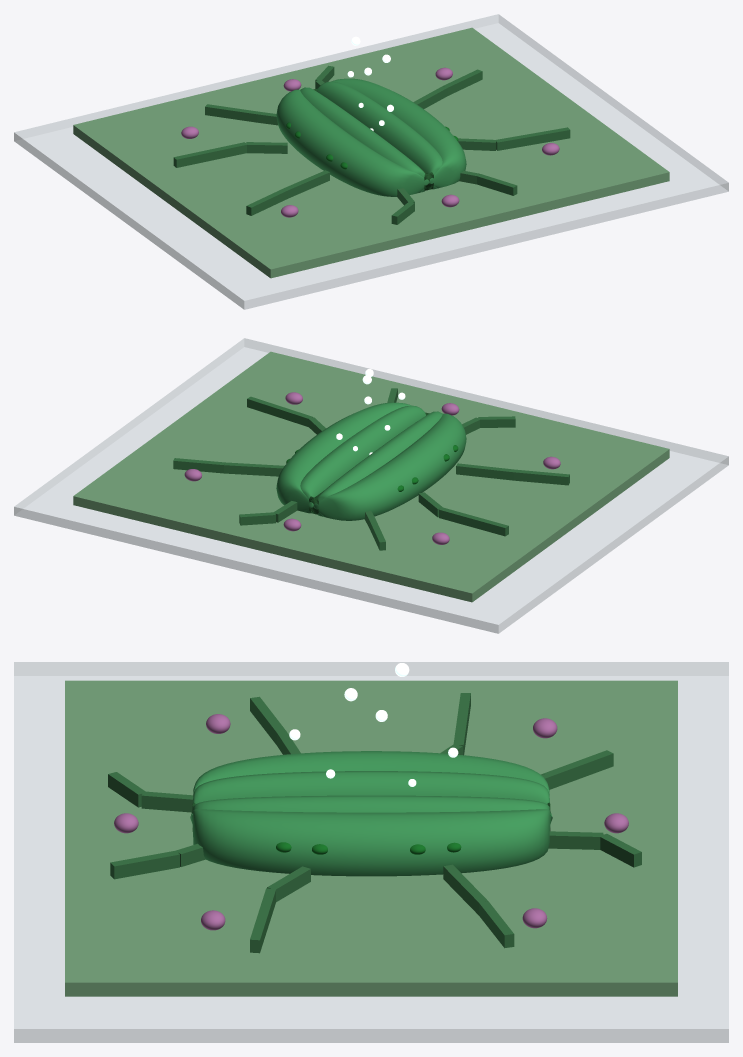
File: stoma.glb
The picture shows the model from 3 angles, top to bottom: view 1: azimuth 30°, elevation 25°; view 2: azimuth 150°, elevation 25°; view 3: azimuth 270°, elevation 25°; orthographic projection. The views are drawn at different scales.
Parts seen in each view (by area): view 1: Closed_Epidermal_Pavement_Base, Closed_Glass_Slide, Open_Glass_Slide, Open_GuardCell_Left, Open_GuardCell_Right, Closed_GuardCell_Right, Closed_GuardCell_Left, Closed_Epidermal_Wall_7_1, Closed_Epidermal_Wall_3_1, Closed_Epidermal_Wall_2_1, Closed_Epidermal_Wall_4_0, Closed_Epidermal_Wall_4_1 (+2 smaller); view 2: Closed_Epidermal_Pavement_Base, Closed_Glass_Slide, Open_Glass_Slide, Open_GuardCell_Left, Closed_GuardCell_Right, Open_GuardCell_Right, Closed_GuardCell_Left, Closed_Epidermal_Wall_3_1, Closed_Epidermal_Wall_7_1, Closed_Epidermal_Wall_4_0, Closed_Epidermal_Wall_0_0, Closed_Epidermal_Wall_4_1 (+1 smaller); view 3: Closed_Epidermal_Pavement_Base, Closed_Glass_Slide, Open_Glass_Slide, Open_GuardCell_Right, Closed_GuardCell_Left, Open_GuardCell_Left, Closed_GuardCell_Right, Closed_Epidermal_Wall_2_1, Closed_Epidermal_Wall_6_1, Closed_Epidermal_Wall_1_0, Closed_Epidermal_Wall_5_0, Closed_Epidermal_Wall_7_1 (+7 smaller).
Part boxes in pixels (box(x1,y1,x2,y2)): Closed_Epidermal_Pavement_Base: box(73, 27, 669, 278); Closed_Glass_Slide: box(14, 14, 728, 309); Open_Glass_Slide: box(14, 14, 728, 309); Open_GuardCell_Left: box(276, 89, 429, 196); Open_GuardCell_Right: box(331, 78, 466, 188); Closed_GuardCell_Right: box(317, 81, 442, 189); Closed_GuardCell_Left: box(300, 87, 428, 192); Closed_Epidermal_Wall_7_1: box(496, 127, 570, 150); Closed_Epidermal_Wall_3_1: box(173, 142, 246, 167); Closed_Epidermal_Wall_2_1: box(205, 104, 258, 122); Closed_Epidermal_Wall_4_0: box(284, 170, 329, 198); Closed_Epidermal_Wall_4_1: box(246, 188, 288, 215); Closed_Epidermal_Pavement_Base: box(73, 351, 669, 602); Closed_Glass_Slide: box(14, 338, 728, 633); Open_Glass_Slide: box(14, 338, 728, 633); Open_GuardCell_Left: box(313, 413, 466, 520); Closed_GuardCell_Right: box(300, 405, 425, 513); Open_GuardCell_Right: box(276, 402, 411, 512); Closed_GuardCell_Left: box(314, 411, 442, 516); Closed_Epidermal_Wall_3_1: box(439, 507, 508, 536); Closed_Epidermal_Wall_7_1: box(247, 396, 313, 426); Closed_Epidermal_Wall_4_0: box(456, 463, 514, 480); Closed_Epidermal_Wall_0_0: box(224, 462, 284, 476); Closed_Epidermal_Wall_4_1: box(514, 469, 569, 485); Closed_Epidermal_Pavement_Base: box(65, 680, 677, 996); Closed_Glass_Slide: box(14, 662, 728, 1042); Open_Glass_Slide: box(14, 662, 728, 1042); Open_GuardCell_Right: box(190, 809, 552, 876); Closed_GuardCell_Left: box(192, 771, 550, 812); Open_GuardCell_Left: box(190, 751, 552, 816); Closed_GuardCell_Right: box(191, 795, 551, 816); Closed_Epidermal_Wall_2_1: box(543, 750, 613, 789); Closed_Epidermal_Wall_6_1: box(110, 850, 179, 879); Closed_Epidermal_Wall_1_0: box(548, 831, 603, 849); Closed_Epidermal_Wall_5_0: box(141, 791, 193, 812); Closed_Epidermal_Wall_7_1: box(250, 888, 275, 953).
Size of the model in its own units: 0.17 by 0.0414 by 0.14.
